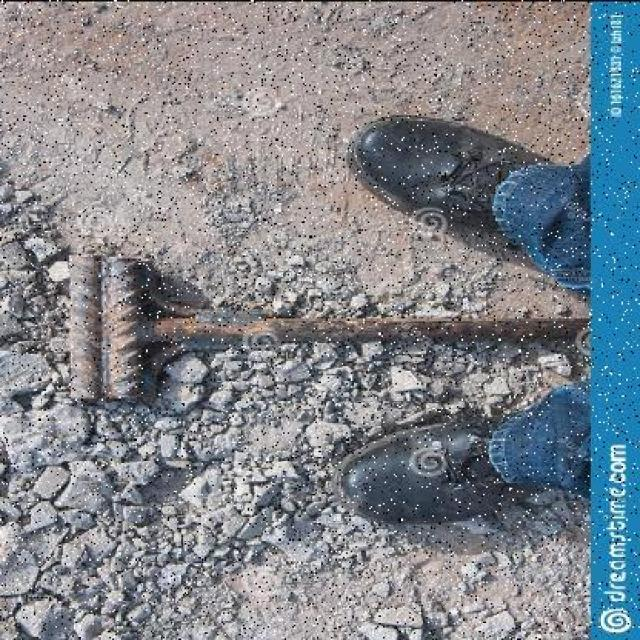shoes: (338, 388, 556, 524), (348, 121, 578, 227)
